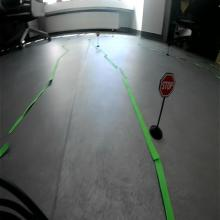stop: (159, 72, 175, 98)
